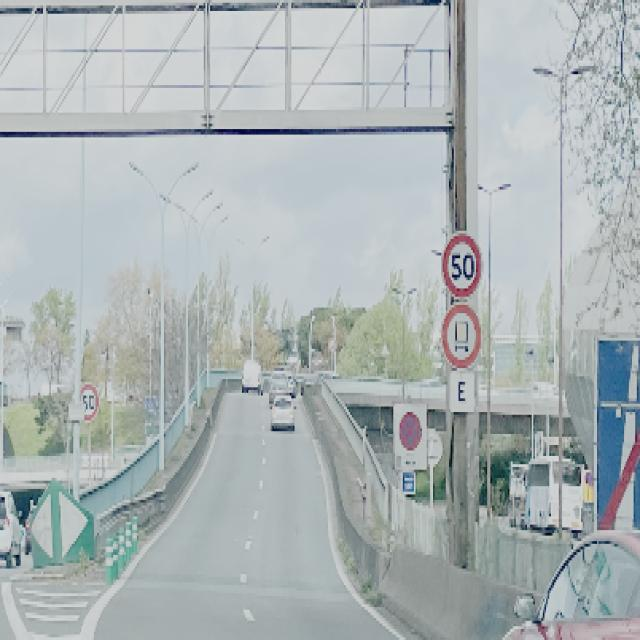speed_50: (441, 233, 484, 301)
